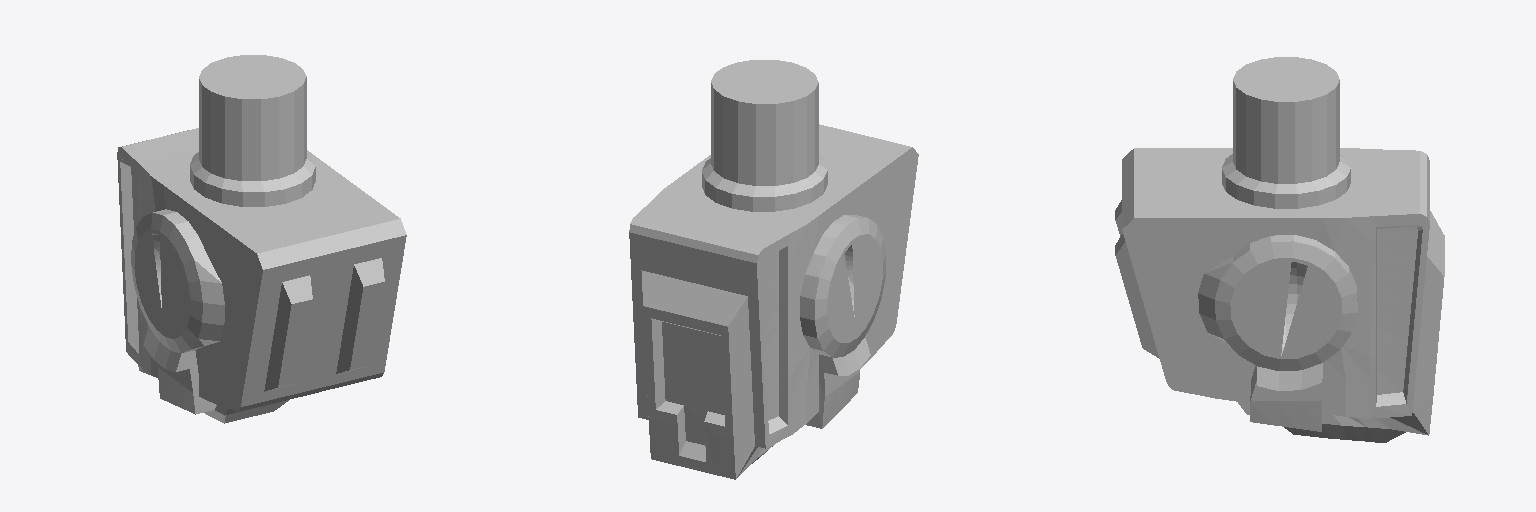
The model's file is hip.obj.
3 views of the same model, side by side, from view 1: azimuth 30°, elevation 25°; view 2: azimuth 150°, elevation 25°; view 3: azimuth 270°, elevation 25° (orthographic).
Visible parts, largest first — view 1: hip_Cube.019; view 2: hip_Cube.019; view 3: hip_Cube.019.
Part boxes in pixels (x1,y1,x2,y2): hip_Cube.019: (117, 55, 406, 423); hip_Cube.019: (629, 60, 918, 479); hip_Cube.019: (1115, 57, 1444, 442).
Size of the model in its own units: 0.3423 by 0.6305 by 0.5327.